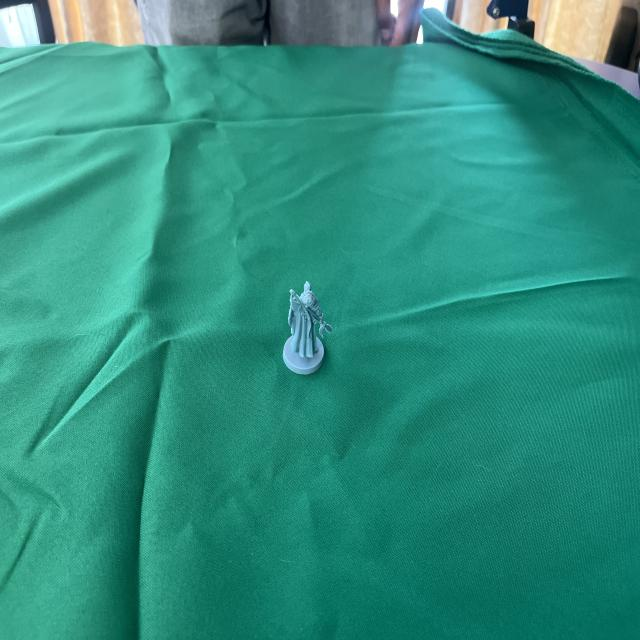isis_follower: (277, 270, 336, 382)
